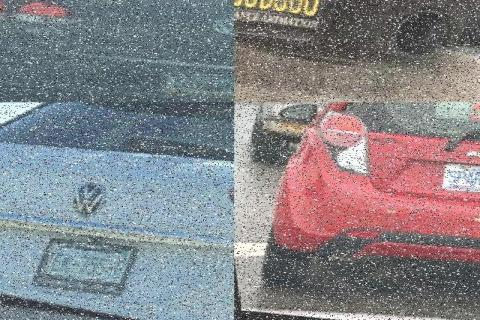LicensePlate: (22, 239, 133, 299), (233, 0, 323, 33), (150, 70, 233, 101), (435, 164, 478, 195)
